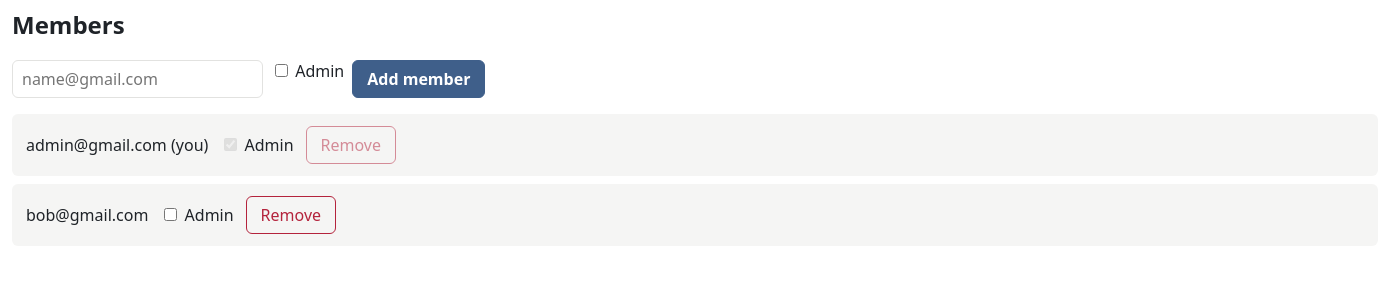
Test case: Members › rejects someone already on the list, ignoring case and spaces
Type " Bob@Gmail.com " into the field named "Email to add" at x=138, y=79, box [12, 60, 263, 98]
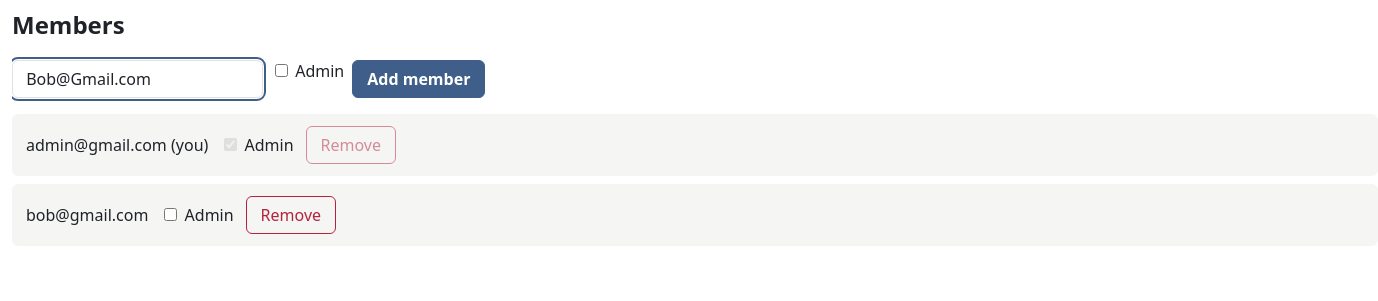
Click the button "Add member" at x=419, y=79, box [352, 60, 485, 98]
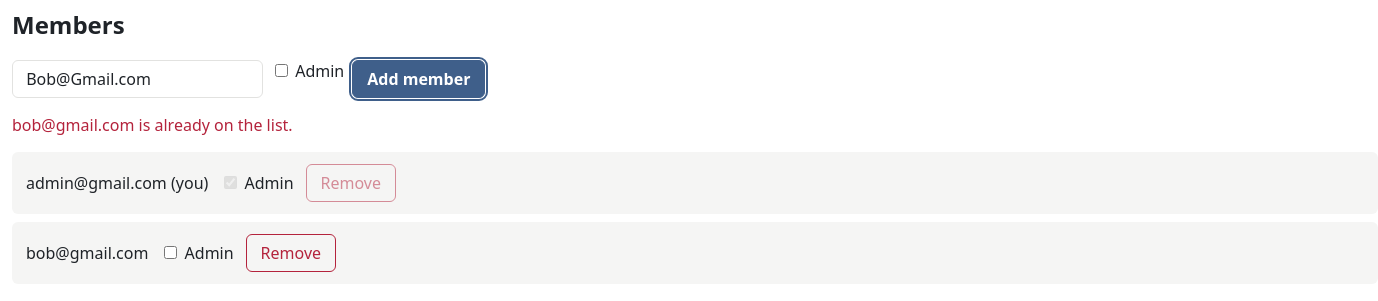
Now the message reads "bob@gmail.com is already on the list.", box [12, 114, 293, 136]
